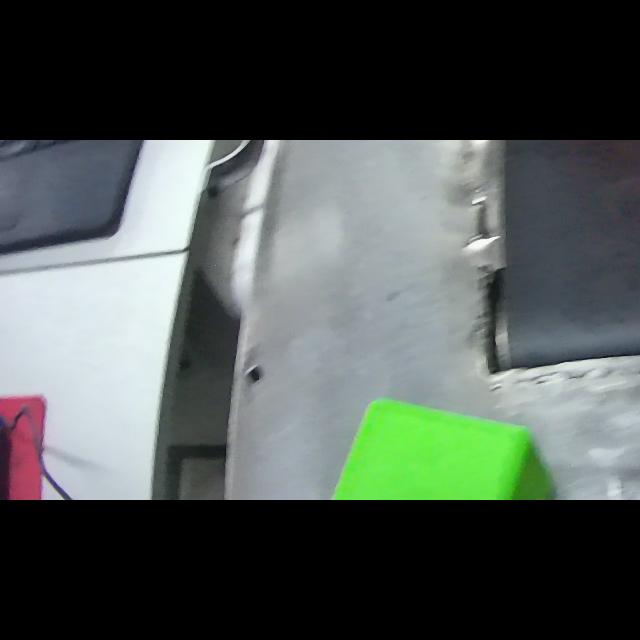greenBox: (321, 390, 561, 500)
